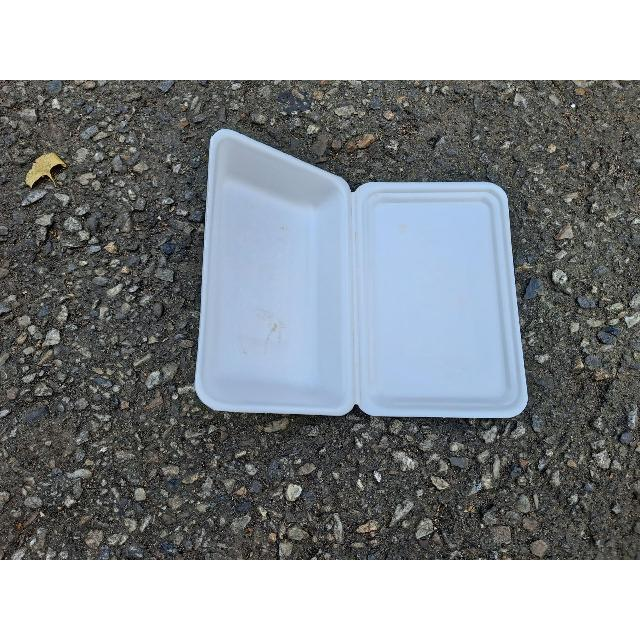Plastico descartable: (195, 129, 530, 420)
